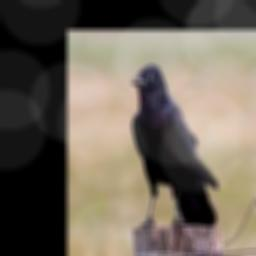Crow: (130, 63, 217, 226)
